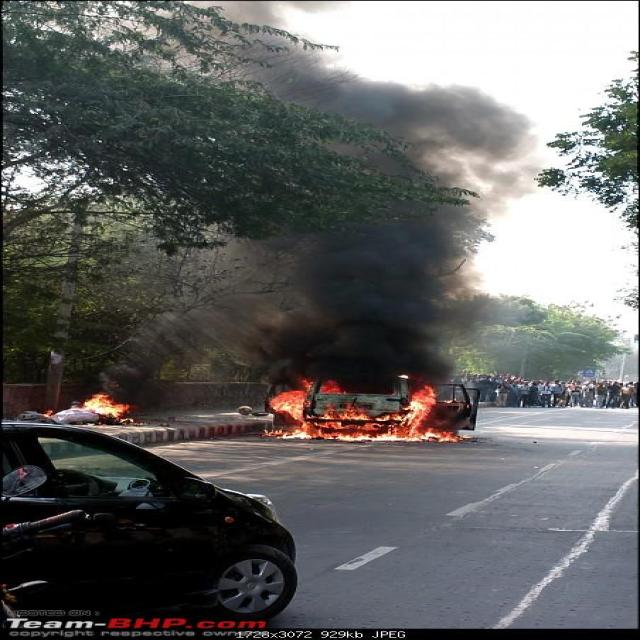fire: (258, 376, 456, 446), (76, 394, 135, 418)
smoke: (292, 81, 506, 362)
